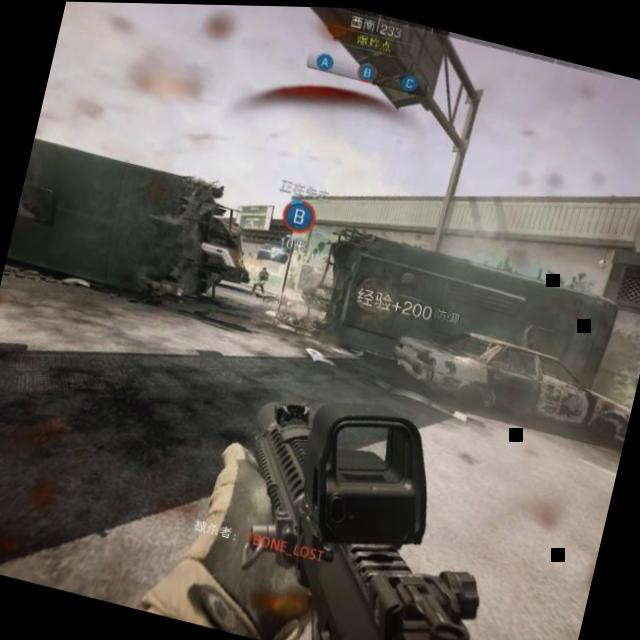MW2_body: (250, 262, 274, 295)
